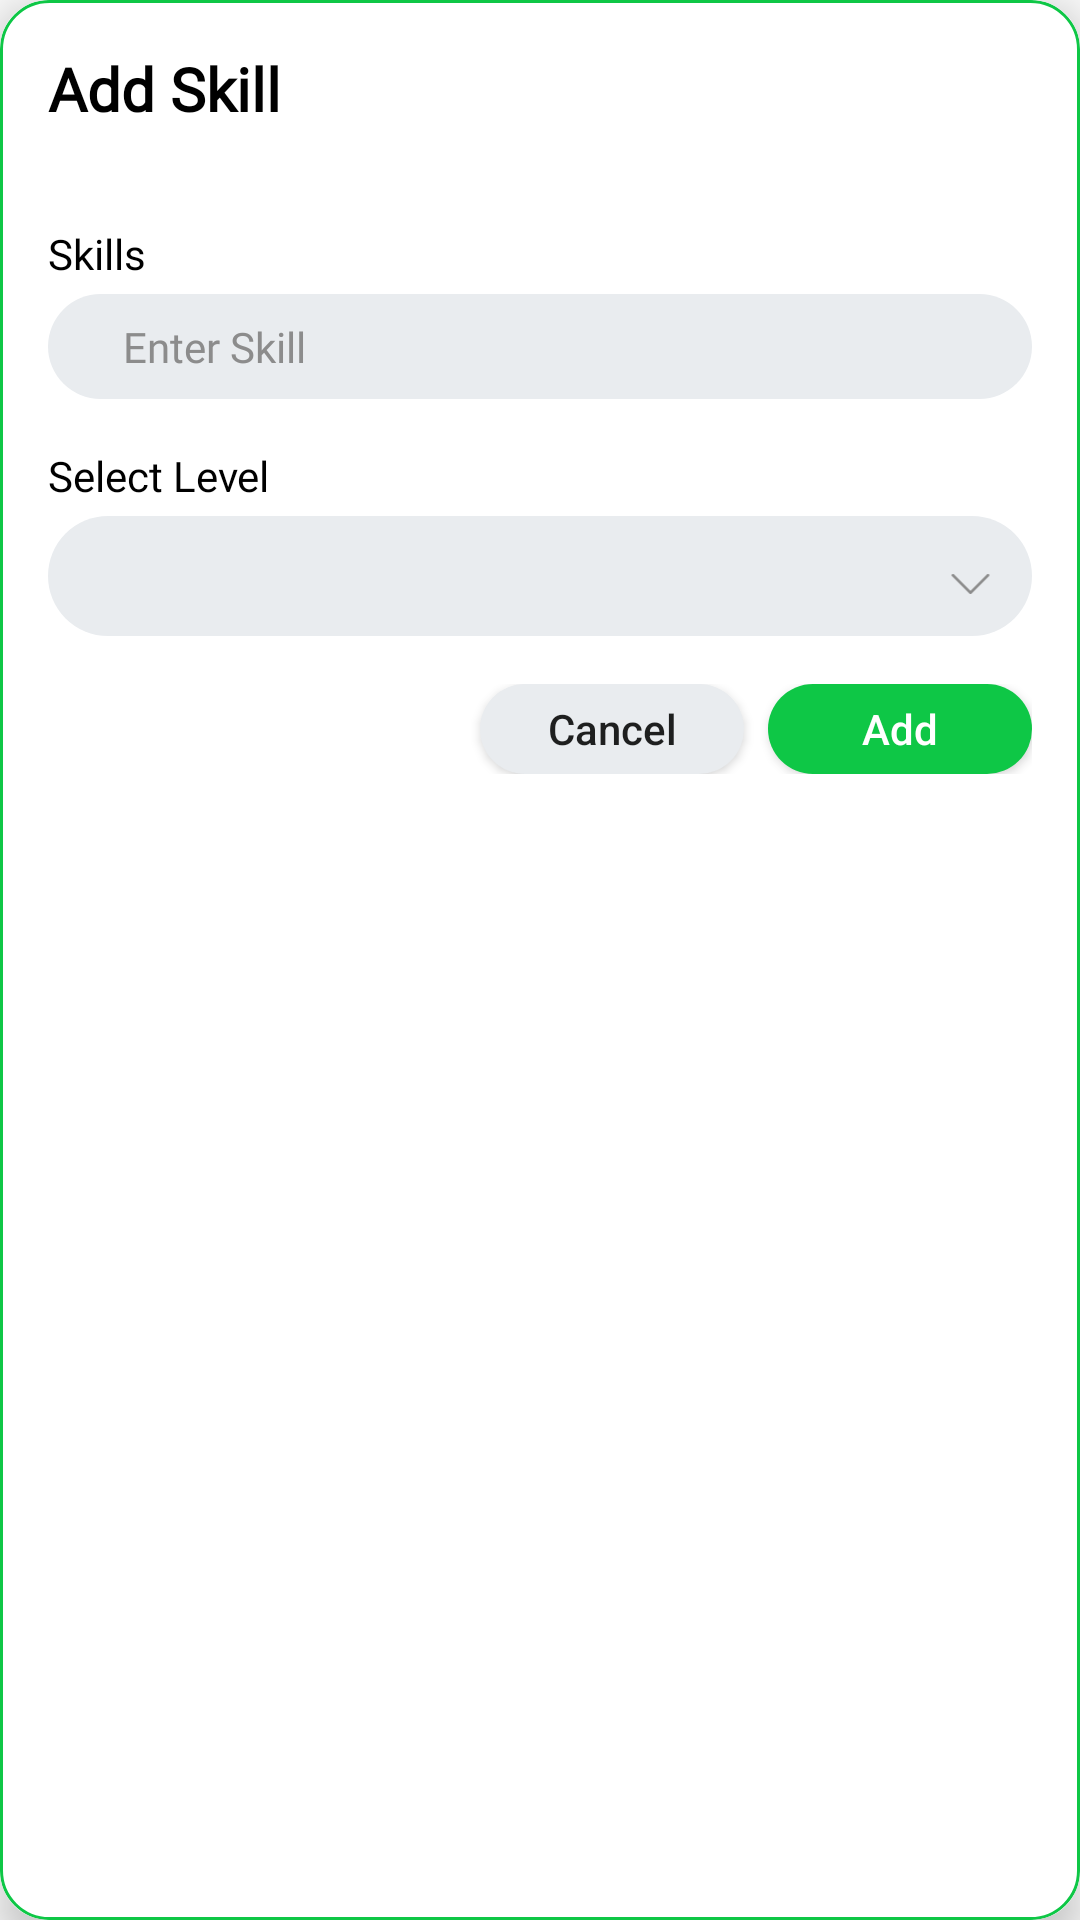

Icon click points for this 1080 x 1920 phone screenshot, format point (x, y):
dropdown: point (970, 584)
